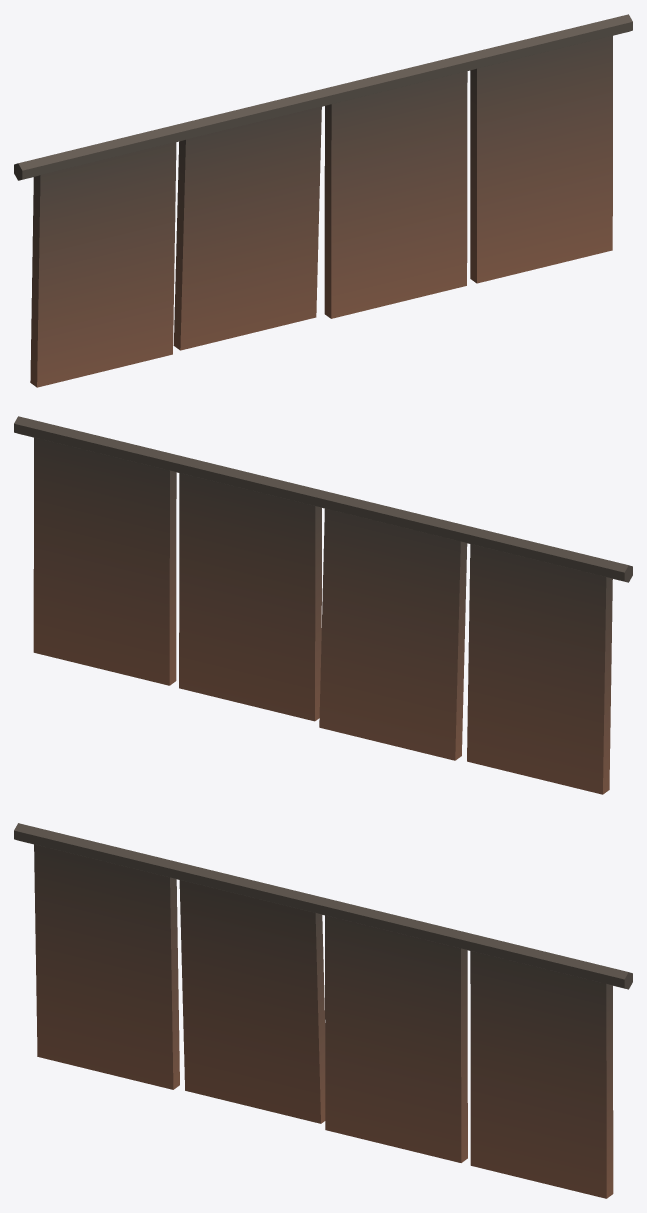
The model's file is prop_noren_b.glb.
3 renders of one model, top to bottom at view 1: azimuth 30°, elevation 25°; view 2: azimuth 150°, elevation 25°; view 3: azimuth 330°, elevation 25°, orthographic.
Visible parts, largest first — view 1: prop_noren_b; view 2: prop_noren_b; view 3: prop_noren_b.
Part boxes in pixels (x1,y1,x2,y2): prop_noren_b: (14,14,632,387); prop_noren_b: (14,416,632,794); prop_noren_b: (14,823,632,1198).
Bounding box in the file's own units: 1.6 × 0.574 × 0.0597.
